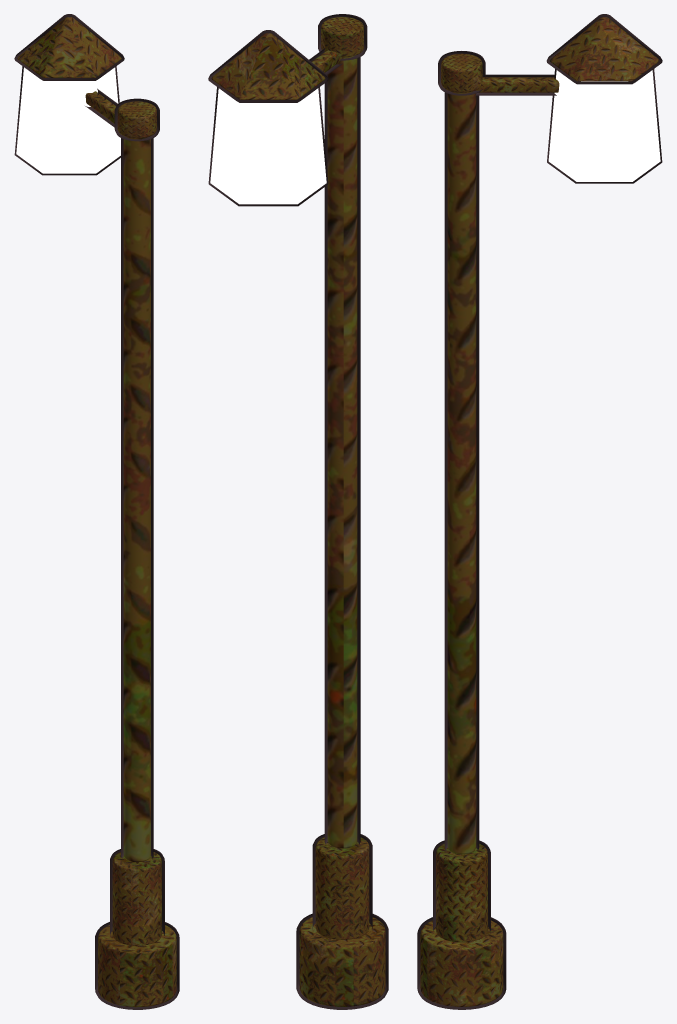
The model's file is lampione_paese.glb.
3 renders of one model, left to right at view 1: azimuth 30°, elevation 25°; view 2: azimuth 150°, elevation 25°; view 3: azimuth 270°, elevation 25°, orthographic. The views are drawn at different scales.
Parts seen in each view (by area): view 1: Cylinder.025, Cone, Cylinder.023, Cylinder.024, Cone.001, Cylinder.026, Cube.052; view 2: Cylinder.025, Cone, Cylinder.023, Cylinder.024, Cone.001, Cylinder.026, Cube.052; view 3: Cylinder.025, Cone, Cylinder.023, Cylinder.024, Cone.001, Cylinder.026, Cube.052.
Part boxes in pixels (x1=…): Cylinder.025: x1=121, y1=137, x2=153, y2=862; Cone: x1=14, y1=66, x2=120, y2=175; Cylinder.023: x1=95, y1=922, x2=179, y2=1009; Cylinder.024: x1=110, y1=849, x2=164, y2=945; Cone.001: x1=14, y1=14, x2=124, y2=80; Cylinder.026: x1=114, y1=98, x2=159, y2=141; Cube.052: x1=85, y1=88, x2=117, y2=127; Cylinder.025: x1=324, y1=56, x2=360, y2=848; Cone: x1=208, y1=87, x2=328, y2=206; Cylinder.023: x1=296, y1=913, x2=388, y2=1009; Cylinder.024: x1=312, y1=834, x2=372, y2=939; Cone.001: x1=208, y1=30, x2=328, y2=102; Cylinder.026: x1=318, y1=14, x2=367, y2=60; Cube.052: x1=309, y1=48, x2=342, y2=74; Cylinder.025: x1=444, y1=91, x2=479, y2=854; Cone: x1=547, y1=54, x2=662, y2=183; Cylinder.023: x1=417, y1=917, x2=506, y2=1009; Cylinder.024: x1=433, y1=840, x2=490, y2=942; Cone.001: x1=546, y1=14, x2=662, y2=84; Cylinder.026: x1=438, y1=51, x2=485, y2=95; Cube.052: x1=475, y1=74, x2=559, y2=95.
Size of the model in its own units: 0.3937 by 4.16 by 0.9455.
Materials: 3 (1 with a texture image).
